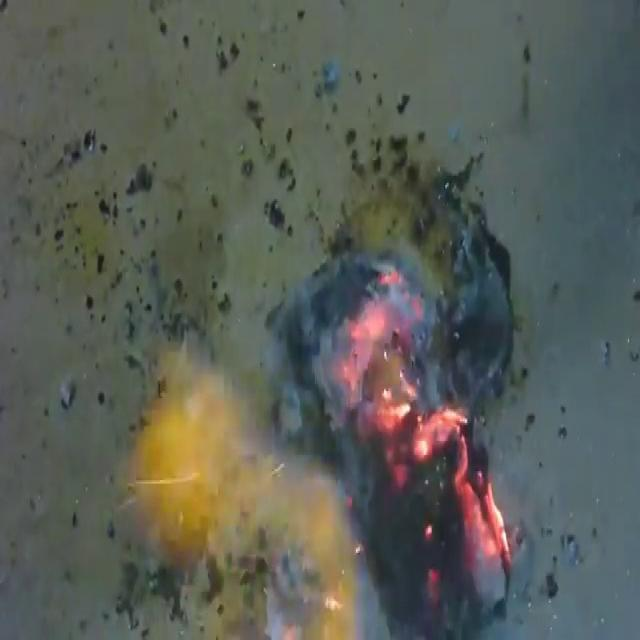Fire: (89, 138, 541, 636)
